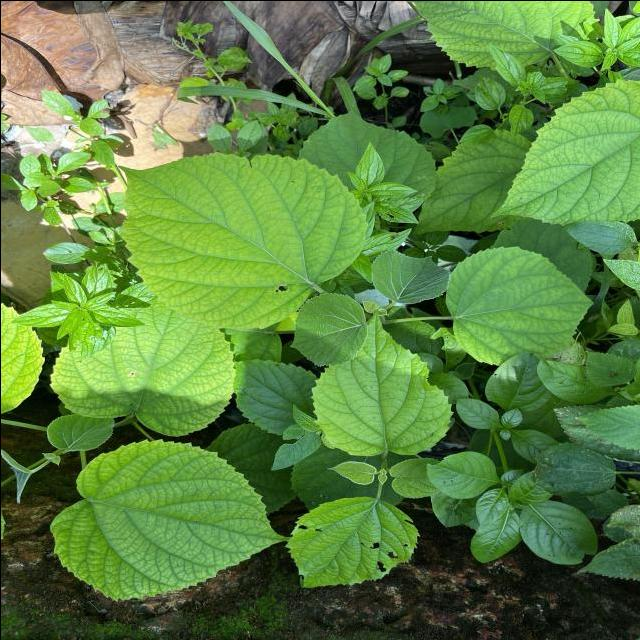Clerodendrum infortunatum: (115, 150, 368, 330), (47, 437, 283, 602), (47, 309, 236, 436), (488, 77, 640, 226), (308, 306, 456, 456), (441, 242, 594, 366), (285, 494, 420, 589), (288, 291, 369, 366), (44, 414, 114, 451), (325, 459, 377, 485)
